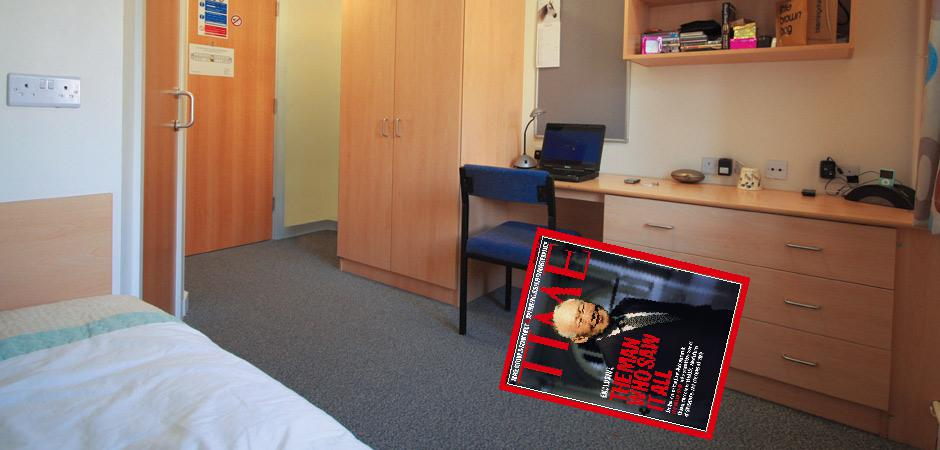times: (495, 224, 753, 440)
